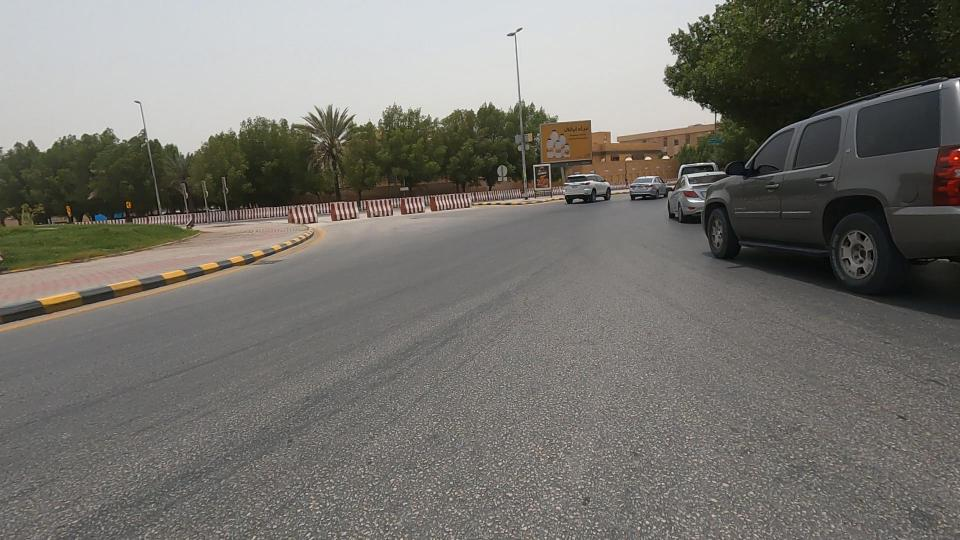CONSTRUCTION_ROAD: (237, 156, 536, 244), (155, 175, 315, 241), (431, 165, 559, 218)
